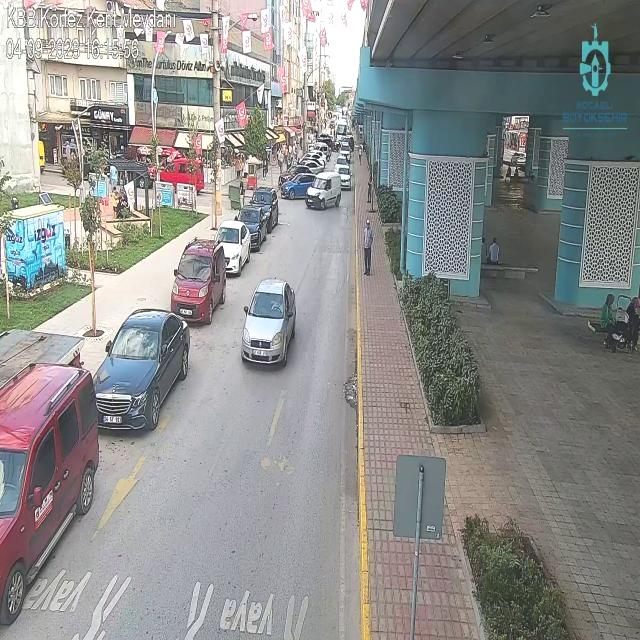Car: (0, 368, 99, 624), (91, 310, 189, 430), (240, 274, 298, 372), (170, 240, 230, 322), (213, 221, 251, 274), (234, 206, 270, 251), (247, 188, 279, 233), (280, 173, 318, 200), (336, 160, 352, 190), (300, 153, 326, 170), (310, 142, 330, 158), (337, 150, 351, 165), (339, 140, 351, 153)
Van: (306, 171, 343, 208)
